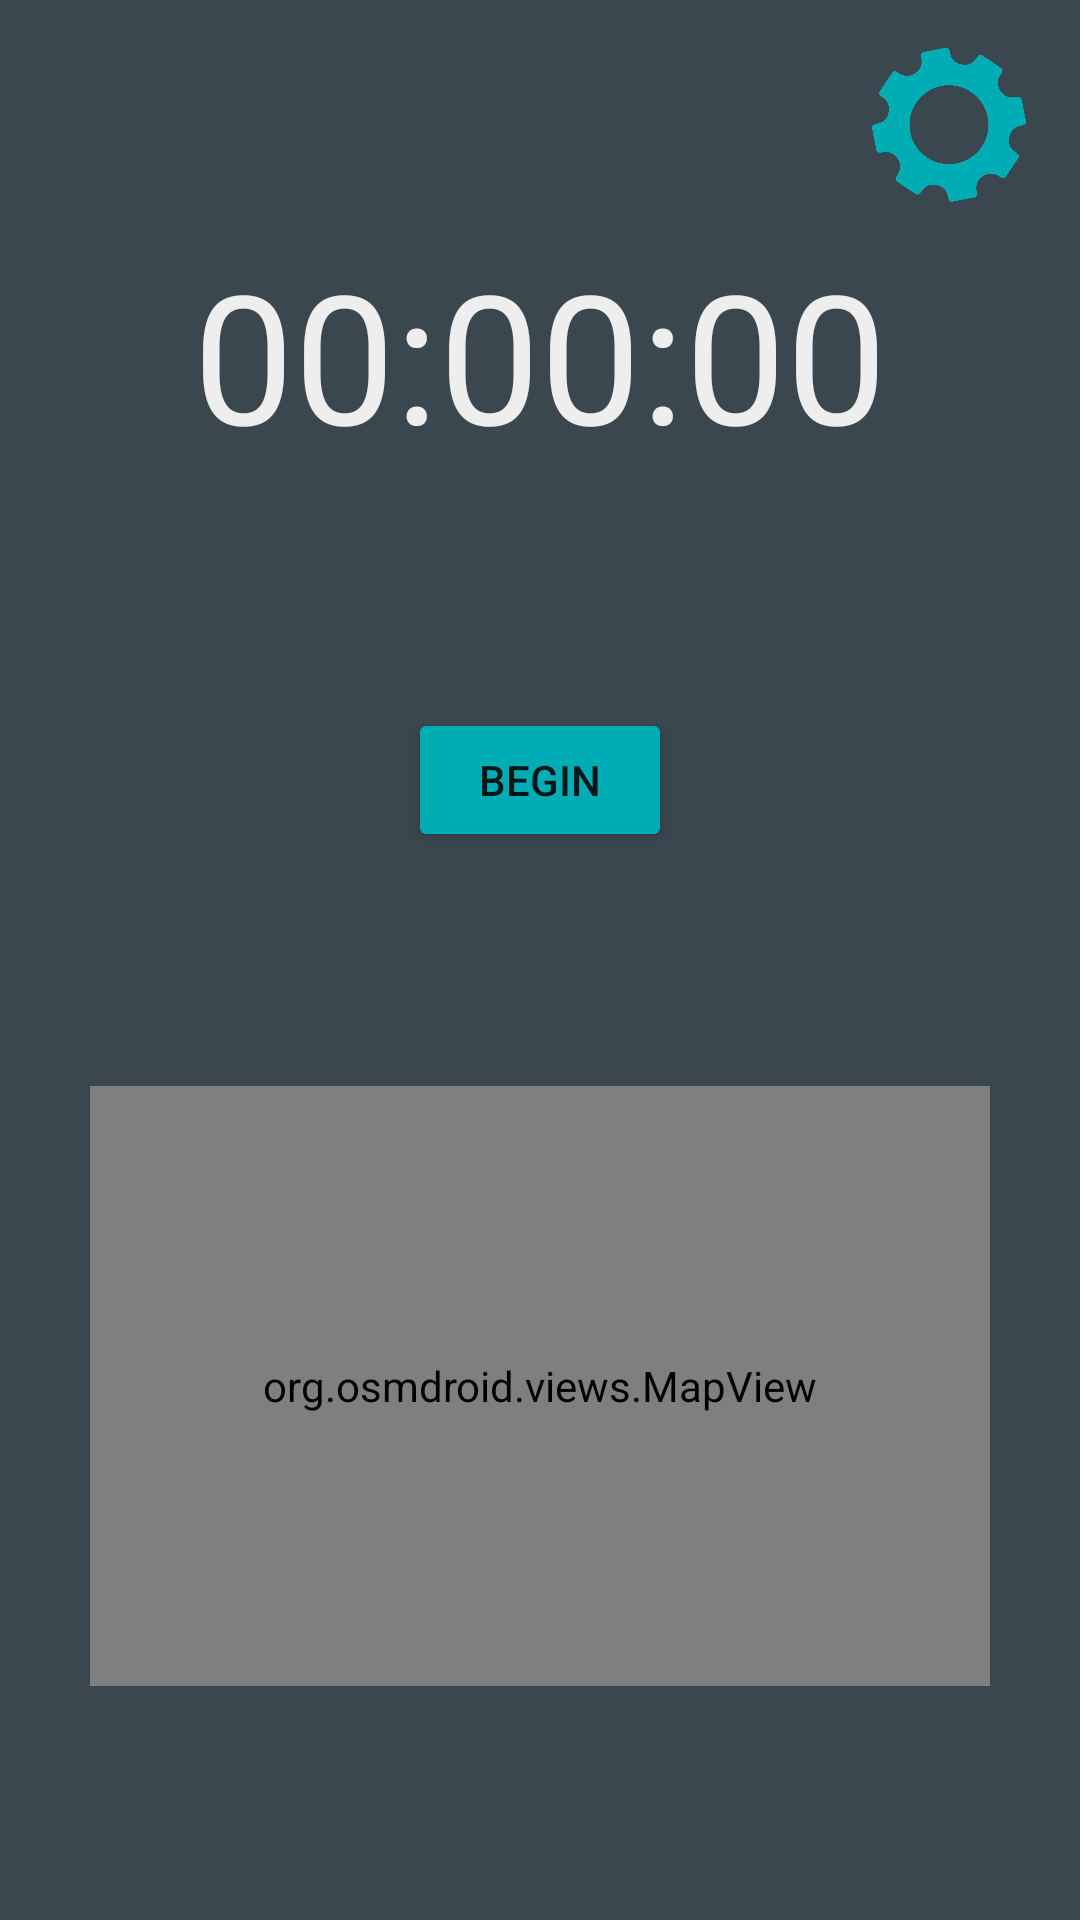

Screen size 1080 x 1920. Icon name, then its box in pixels as (x1, y1, x2, y2):
settings: (872, 48, 1026, 202)
